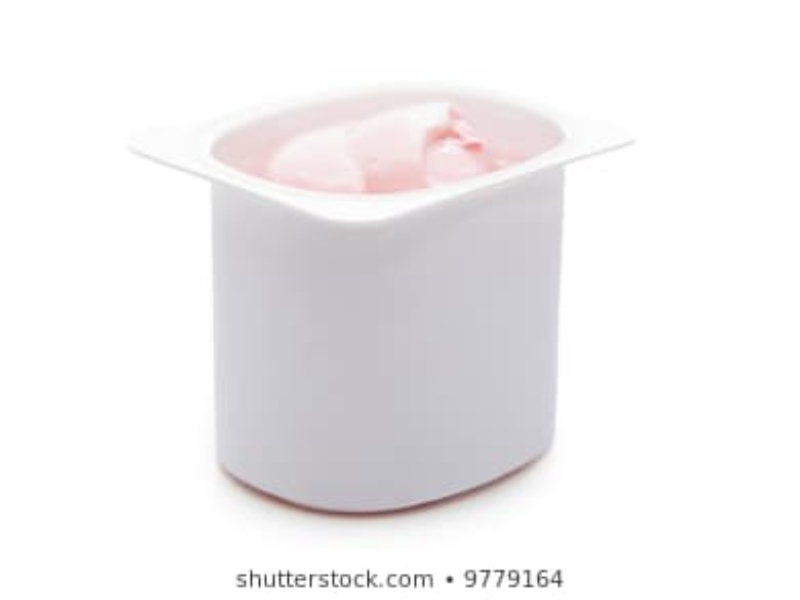yogurt-cup: (127, 79, 643, 518)
